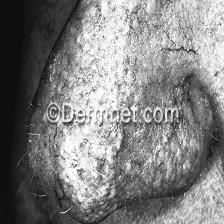Benign Marking or Mole: (60, 128, 118, 210)
